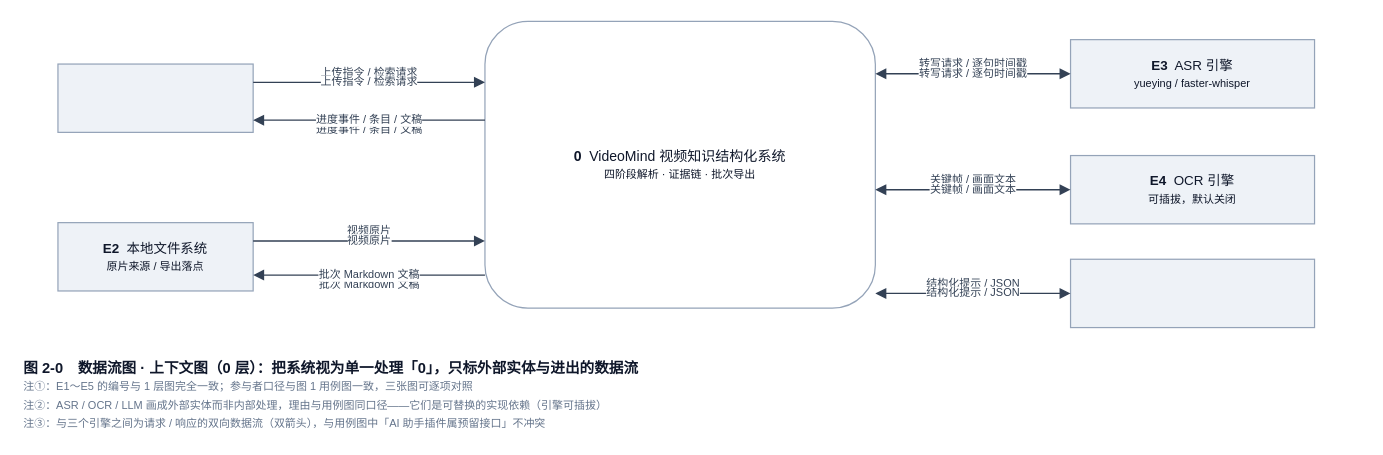
The diagram is 1383 pixels wide and 455 high, and some of its shapes have lost their labels. The box of each missing label's shape, as (x1, y1, x2, y2) in pixels:
E1 学习者 浏览器内操作: (57, 63, 253, 132)
E5 LLM 服务 DeepSeek: (1069, 258, 1315, 328)
